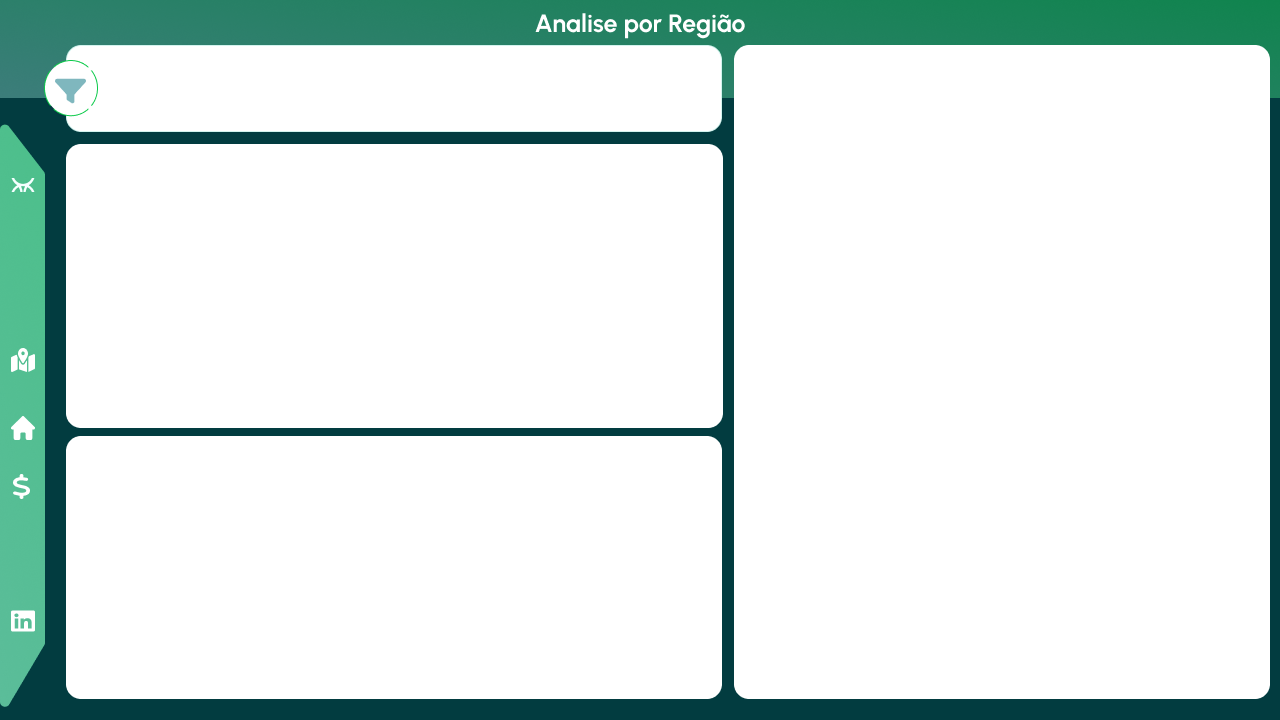

The dashboard page shown, as its layout file describes it:
{"tool":"powerbi","page":{"name":"Regional","canvas":[1280,720],"ordinal":2},"visuals":[{"type":"pivotTable","fields":{"Rows":["dCalendario.NomeMes","fVendas.Regiao","fVendas.Estado"],"Values":["Sum(fVendas.QuantidadeItens)"],"Columns":["dProduto.CategoriaProduto.CategoriaNome"]},"box":[66,143.2,657.9,286.4],"z":0},{"type":"clusteredBarChart","title":"Itens Vendidos Por Segmento","fields":{"Category":["fVendas.Segmento"],"Y":["Sum(fVendas.QuantidadeItens)"]},"box":[66,437.5,657.9,264.1],"z":1000},{"type":"azureMap","fields":{"Category":["fVendas.País","fVendas.Estado"],"Size":["Medidas.$ Faturamento"]},"box":[734,45.9,533.7,647.8],"z":2000},{"type":"slicer","fields":{"Values":["dCalendario.Ano"]},"box":[106.3,51.5,301,71.6],"z":3000},{"type":"slicer","fields":{"Values":["dProduto.SubcategoriaNome"]},"box":[407.3,51.5,301,71.6],"z":4000},{"type":"actionButton","box":[0,602,44.8,40.3],"z":5000},{"type":"actionButton","box":[0,166.7,44.8,40.3],"z":6000},{"type":"actionButton","box":[0,409.5,44.8,40.3],"z":7000},{"type":"actionButton","box":[0,466.6,44.8,40.3],"z":8000}]}

Visuals, with their boxes on the page's 1280x720 design canvas (x1, y1, x2, y2). These are canvas units, not pixel positions in the 1280x720 screenshot, which may show the page scaled, cropped or inside an application window:
pivotTable - dCalendario.NomeMes x fVendas.Regiao: bbox=(66, 143, 724, 430)
"Itens Vendidos Por Segmento" clusteredBarChart: bbox=(66, 438, 724, 702)
azureMap - fVendas.País x fVendas.Estado: bbox=(734, 46, 1268, 694)
slicer - dCalendario.Ano: bbox=(106, 52, 407, 123)
slicer - dProduto.SubcategoriaNome: bbox=(407, 52, 708, 123)
actionButton: bbox=(0, 602, 45, 642)
actionButton: bbox=(0, 167, 45, 207)
actionButton: bbox=(0, 410, 45, 450)
actionButton: bbox=(0, 467, 45, 507)
